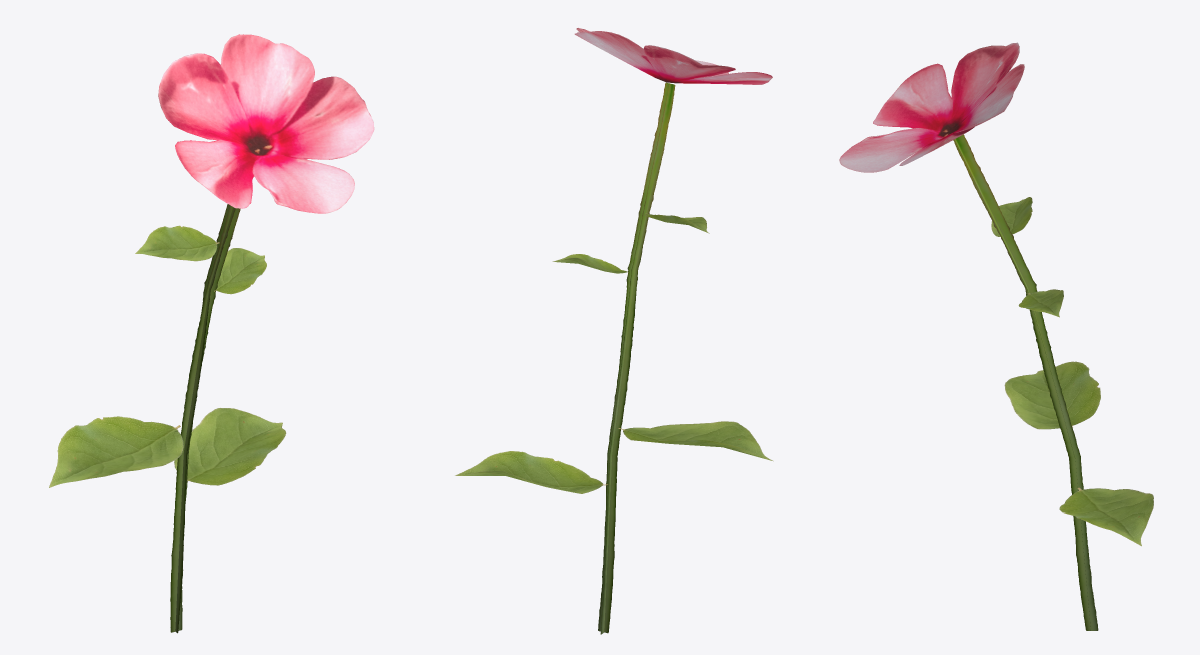
Rendered from PinkFLower_1.fbx.
The picture shows the model from 3 angles, left to right: view 1: azimuth 30°, elevation 25°; view 2: azimuth 150°, elevation 25°; view 3: azimuth 270°, elevation 25°; orthographic projection. The views are drawn at different scales.
Visible parts, largest first — view 1: PinkFLower_1; view 2: PinkFLower_1; view 3: PinkFLower_1.
Part boxes in pixels (bbox=[...]): PinkFLower_1: bbox=[49, 34, 374, 633]; PinkFLower_1: bbox=[455, 28, 773, 634]; PinkFLower_1: bbox=[839, 42, 1153, 630].
Bounding box in the file's own units: 0.1475 × 0.2693 × 0.1471.
